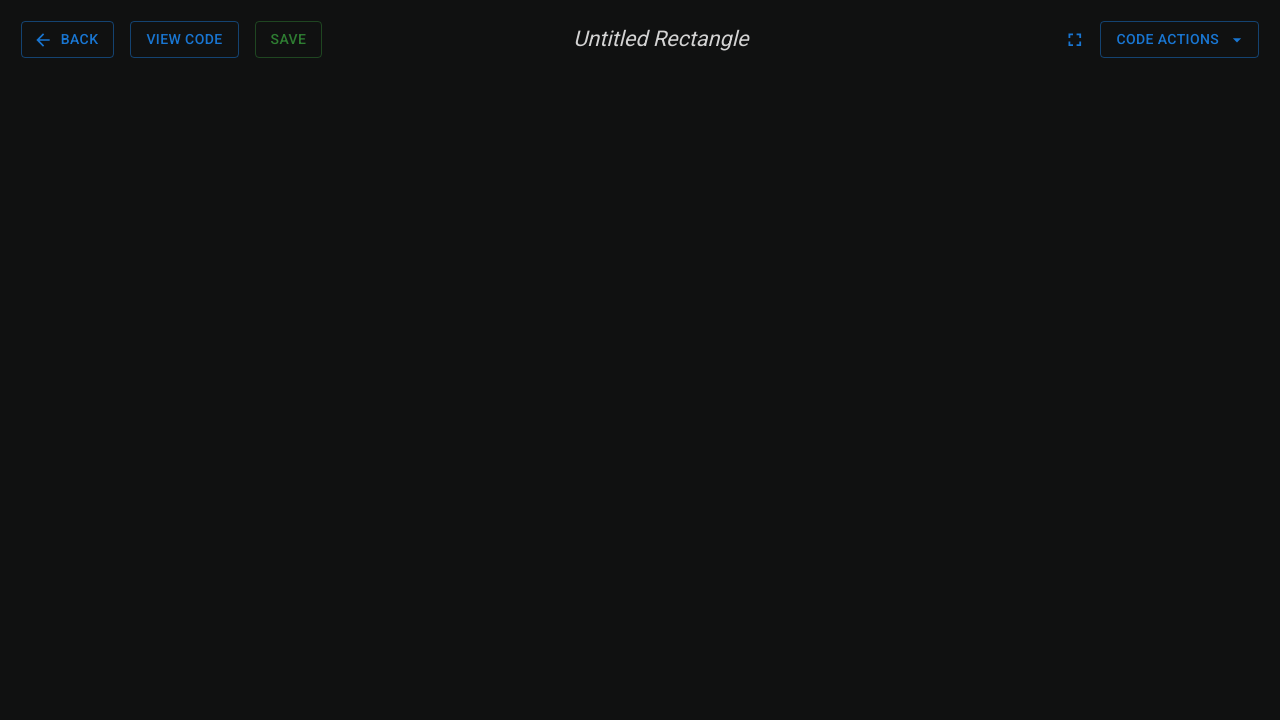
Scenario: Button Click Tests › Clicking the show code button alternates its text
Click the button with id "show-code-button" at (184, 40), box [130,21,239,58]
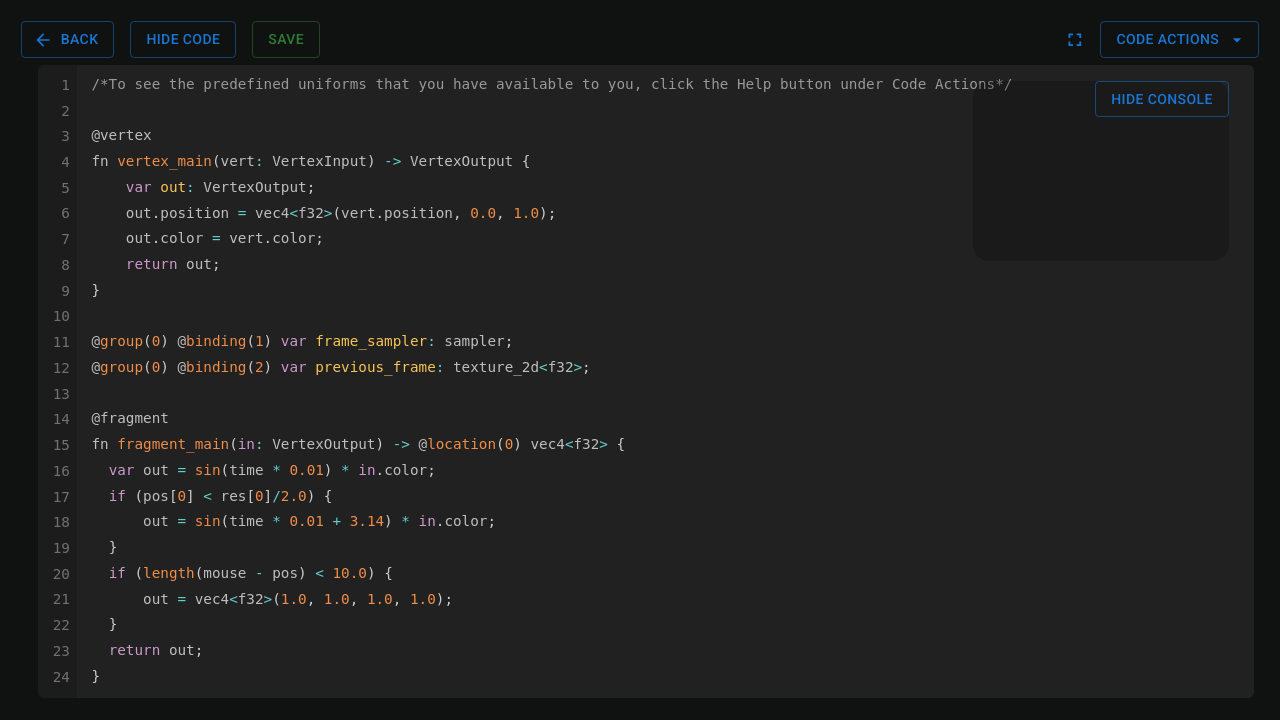
Click the button with id "show-code-button" at (183, 40), box [130,21,236,58]
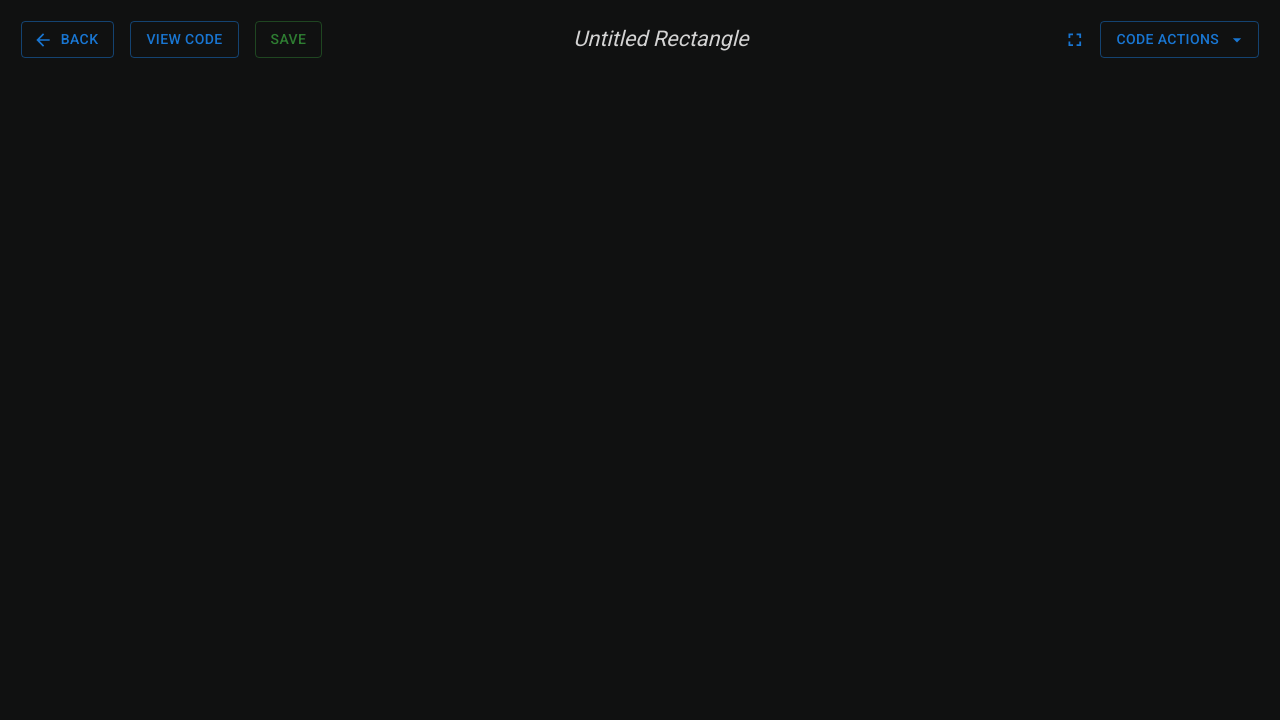
Now the button with id "show-code-button" reads "View Code", box [130,21,239,58]
